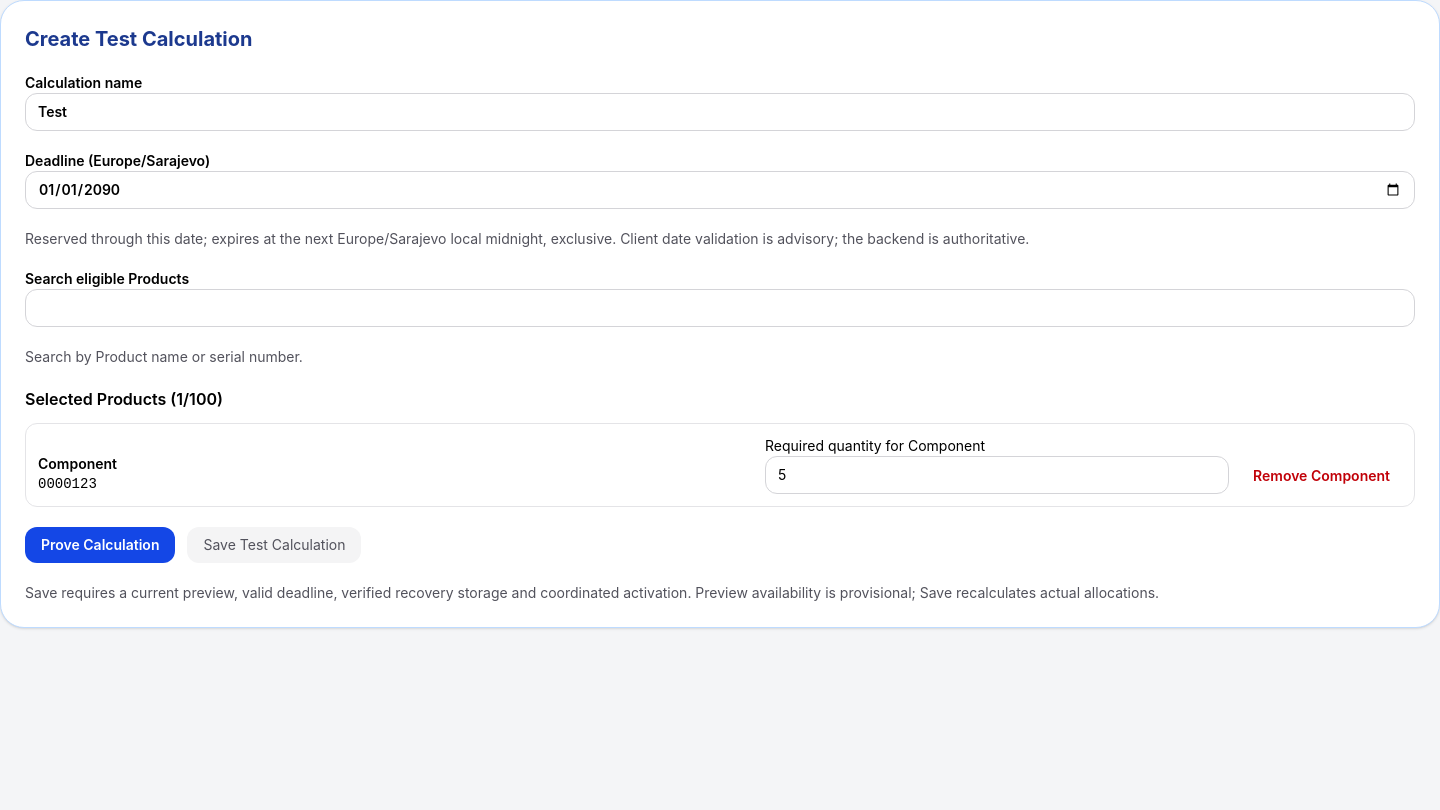
Test: Prove Calculation editor integration (mock services only) › clears old success and shows network error without fabricated quantities
Click the button "Prove Calculation": [100, 545] box left=25, top=527, right=176, bottom=563
(page scrolled)
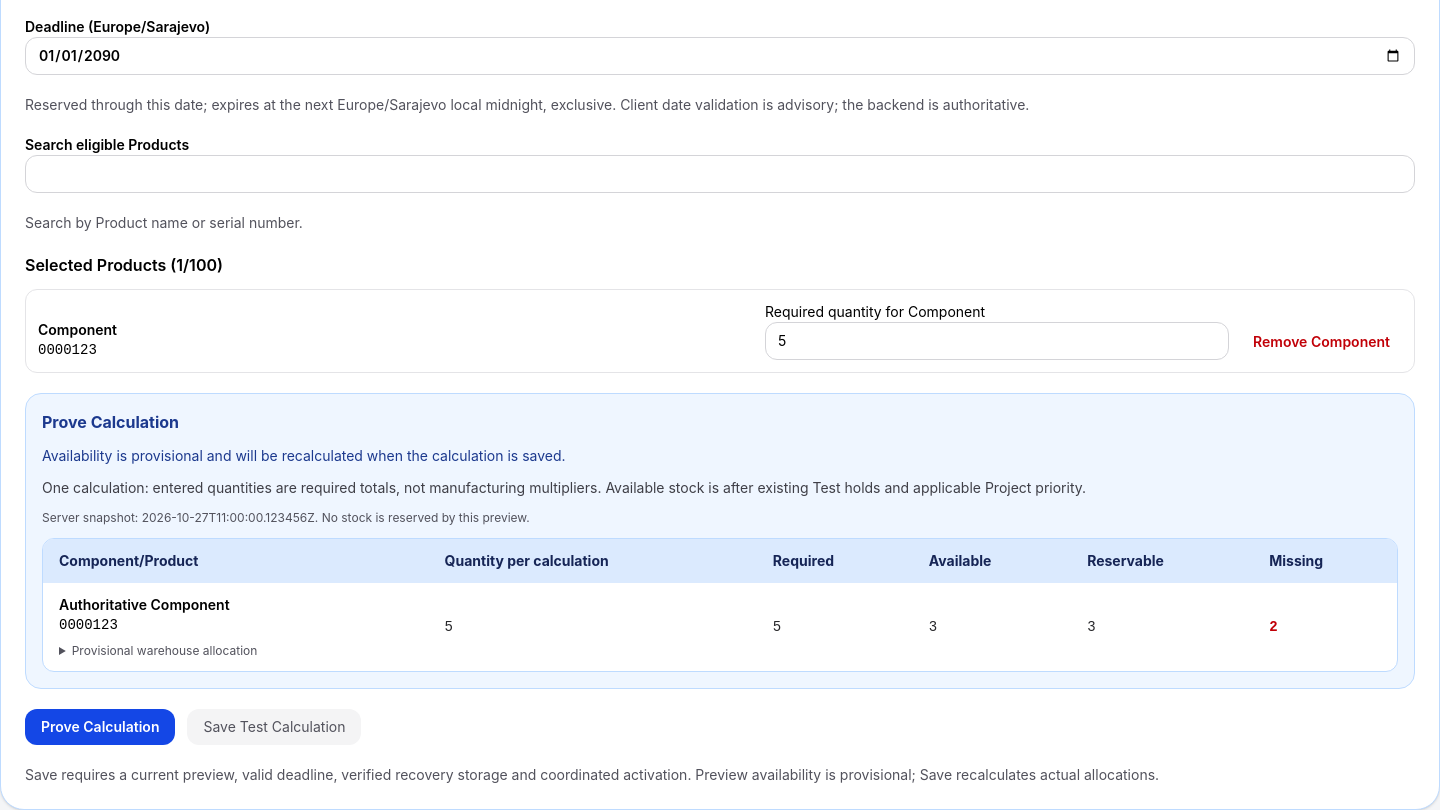
Result: the element named "Test Calculation preview" is shown at left=25, top=393, right=1415, bottom=689
Click the button "Prove Calculation": [100, 727] box left=25, top=709, right=176, bottom=745
(page scrolled)
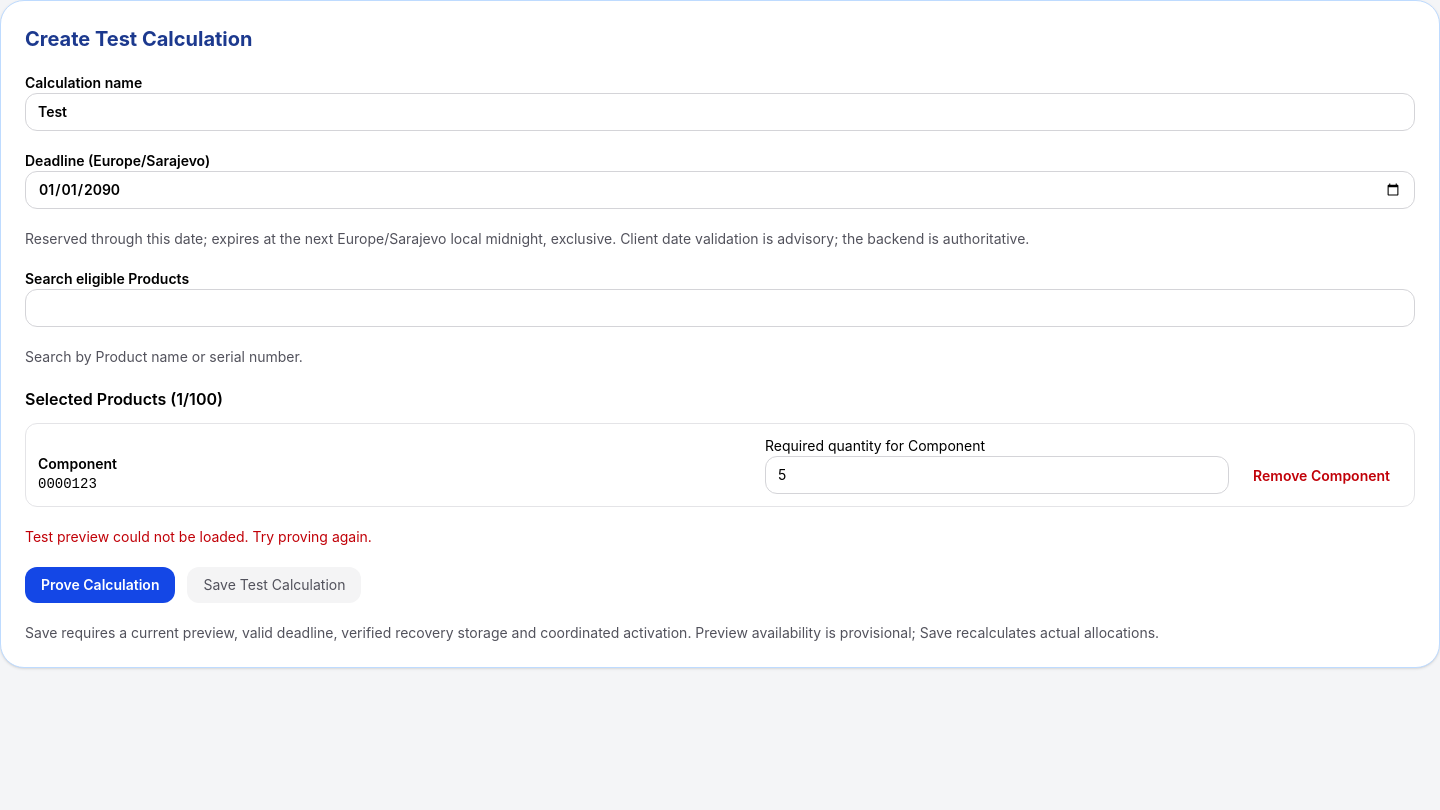
Expected: the message does not show "secret backend connection", left=25, top=528, right=372, bottom=545
Result: the message shows "could not be loaded" at left=25, top=528, right=372, bottom=545
